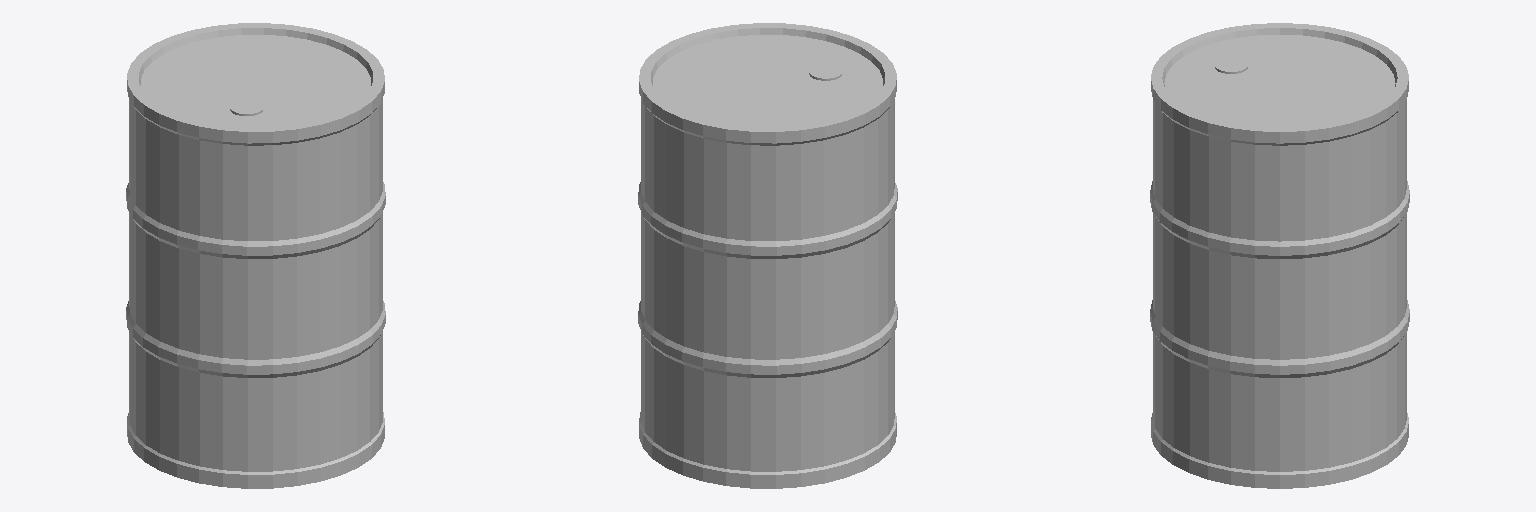
The model's file is rusty_barrel.obj.
3 renders of one model, left to right at view 1: azimuth 30°, elevation 25°; view 2: azimuth 150°, elevation 25°; view 3: azimuth 270°, elevation 25°, orthographic.
Parts seen in each view (by area): view 1: rusty_barrel_Cylinder.002; view 2: rusty_barrel_Cylinder.002; view 3: rusty_barrel_Cylinder.002.
Boxes of the visible parts, <box> form: rusty_barrel_Cylinder.002: <box>126,23,385,488</box>; rusty_barrel_Cylinder.002: <box>638,23,897,488</box>; rusty_barrel_Cylinder.002: <box>1150,23,1409,488</box>.
Bounding box in the file's own units: 1.9 × 2.88 × 1.9.